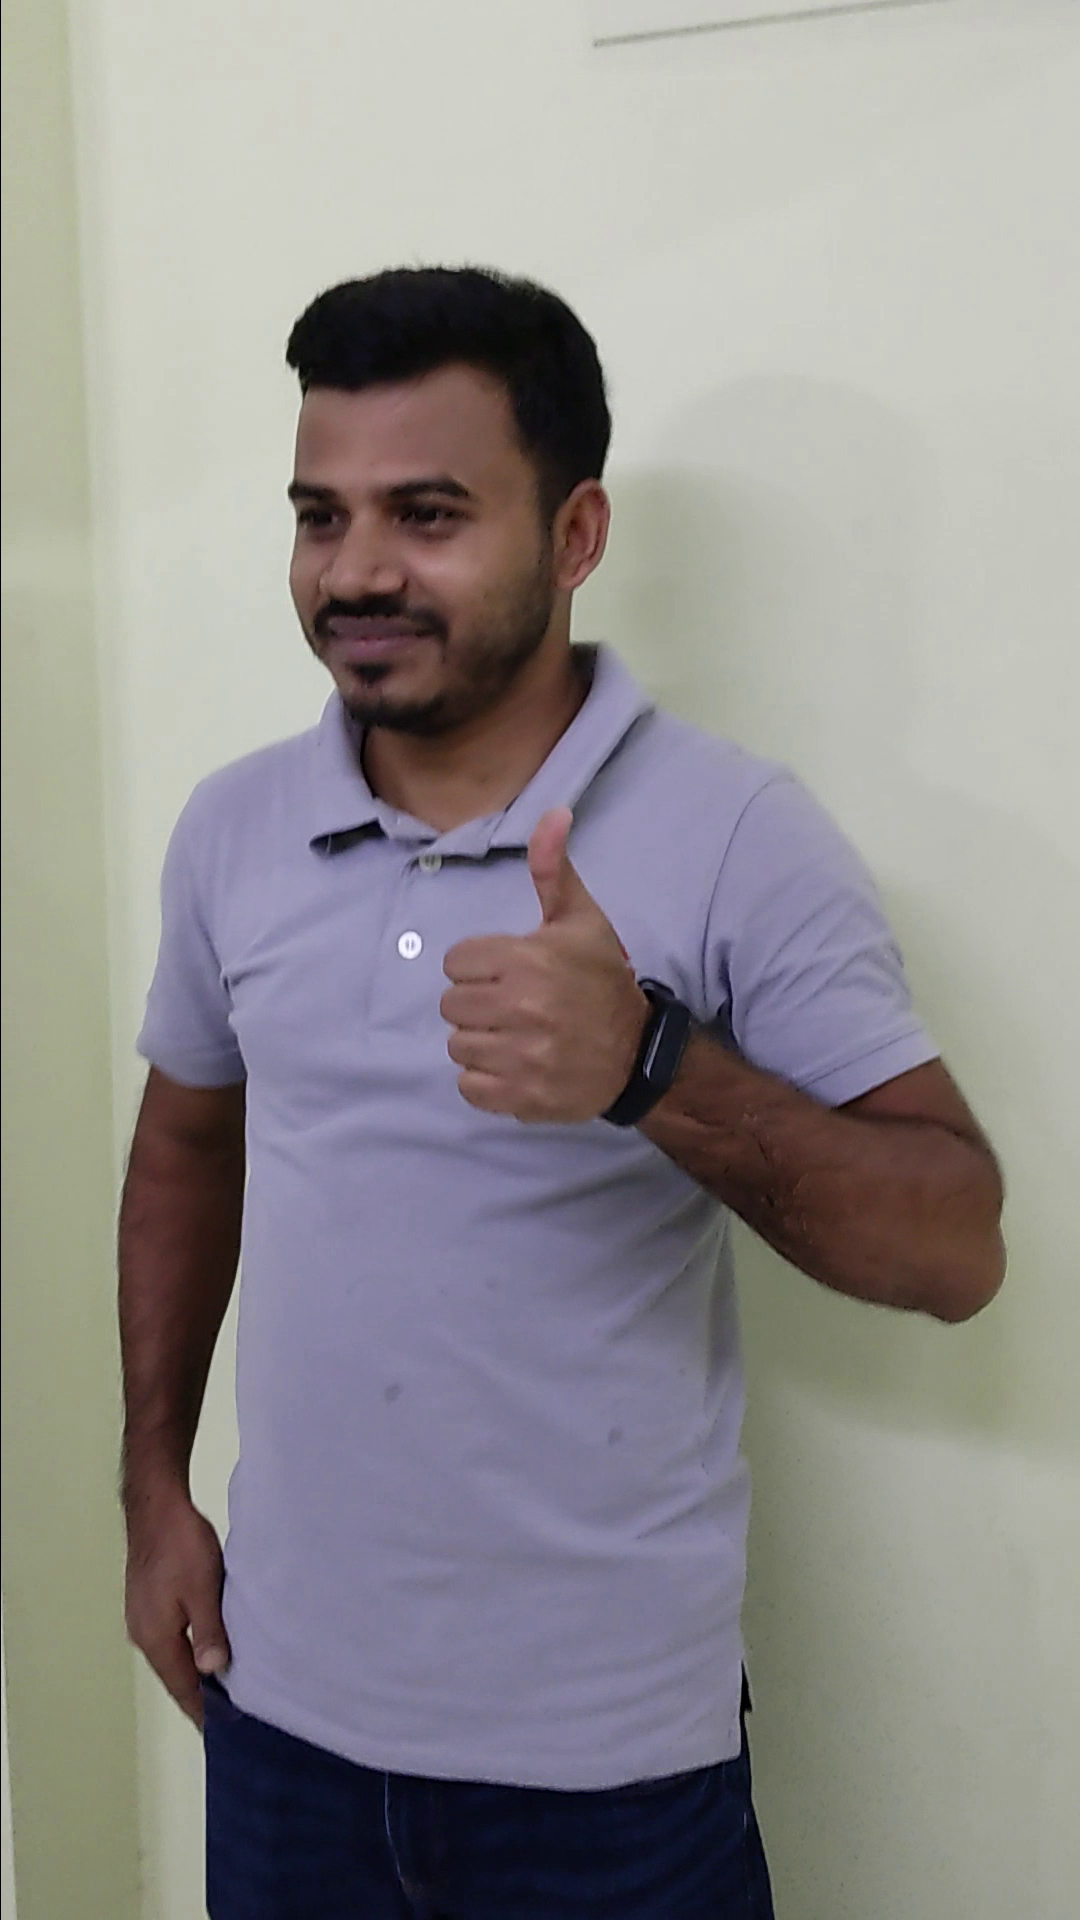Like: (425, 789, 665, 1135)
None: (88, 1448, 236, 1741)
